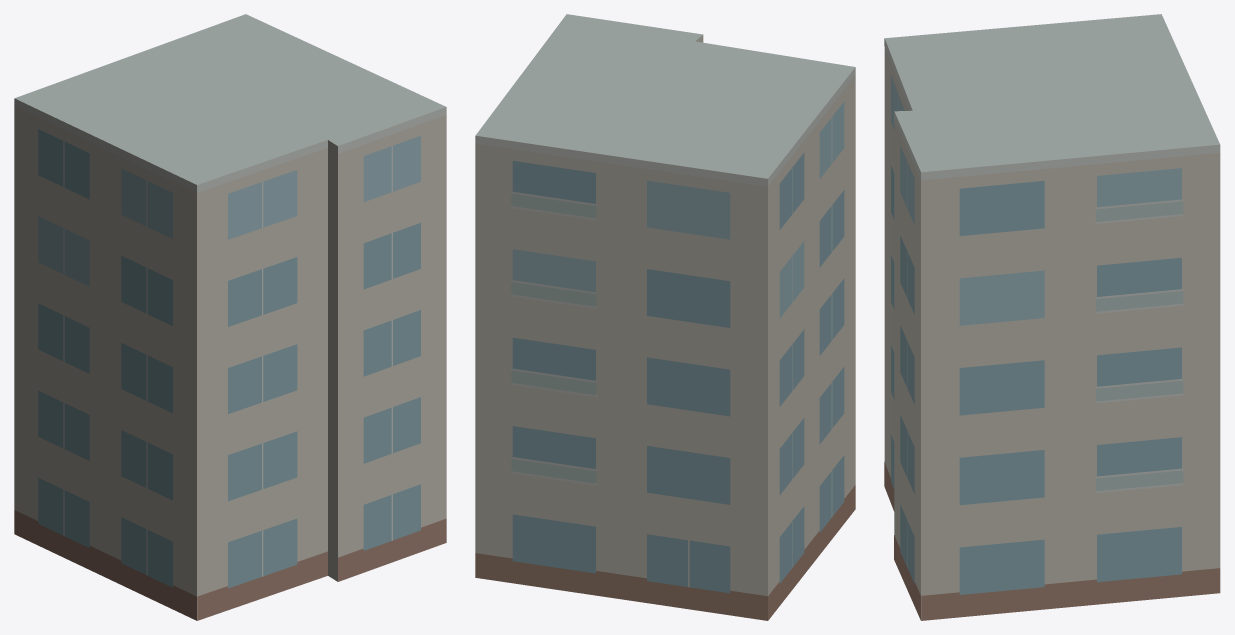
Rendered from survey-upis-32949399.glb.
3 renders of one model, left to right at view 1: azimuth 30°, elevation 25°; view 2: azimuth 150°, elevation 25°; view 3: azimuth 270°, elevation 25°, orthographic. The views are drawn at different scales.
Visible parts, largest first — view 1: survey-upis-32949399.tmp; view 2: survey-upis-32949399.tmp; view 3: survey-upis-32949399.tmp.
Boxes of the visible parts, x1,y1,x2,y2 form: survey-upis-32949399.tmp: (14, 14, 446, 620); survey-upis-32949399.tmp: (475, 14, 855, 620); survey-upis-32949399.tmp: (884, 14, 1220, 620).
Bounding box in the file's own units: 10.31 × 13.6 × 9.23.
